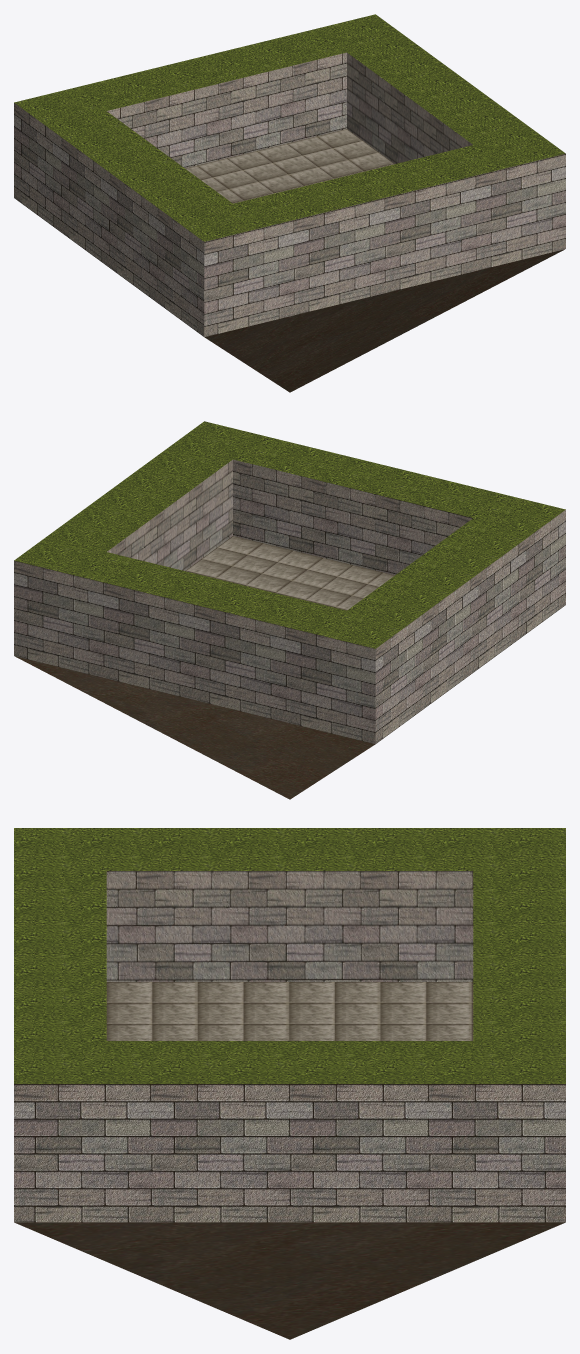
Rendered from skyplatform.dae.
The picture shows the model from 3 angles, top to bottom: view 1: azimuth 30°, elevation 25°; view 2: azimuth 150°, elevation 25°; view 3: azimuth 270°, elevation 25°; orthographic projection. The views are drawn at different scales.
Visible parts, largest first — view 1: Cube; view 2: Cube; view 3: Cube.
Boxes of the visible parts, x1,y1,x2,y2 form: Cube: (14,14,565,392); Cube: (14,421,565,799); Cube: (14,828,565,1339).
Size of the model in its own units: 15.41 by 14.04 by 10.77.
